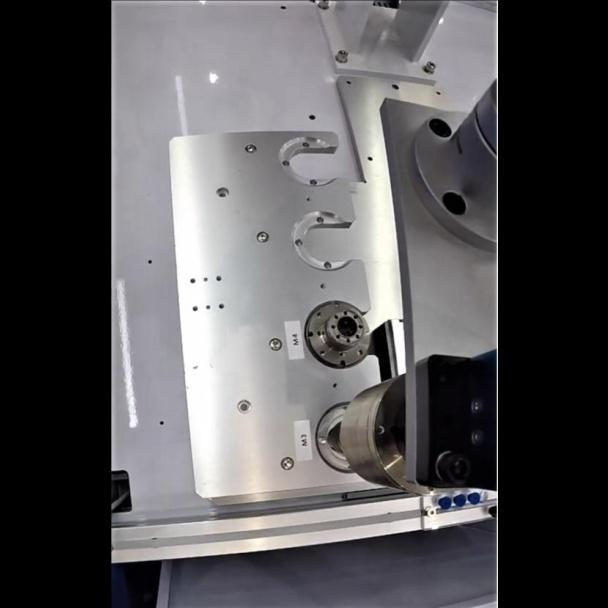hole: (235, 396, 252, 413), (215, 184, 229, 198)
